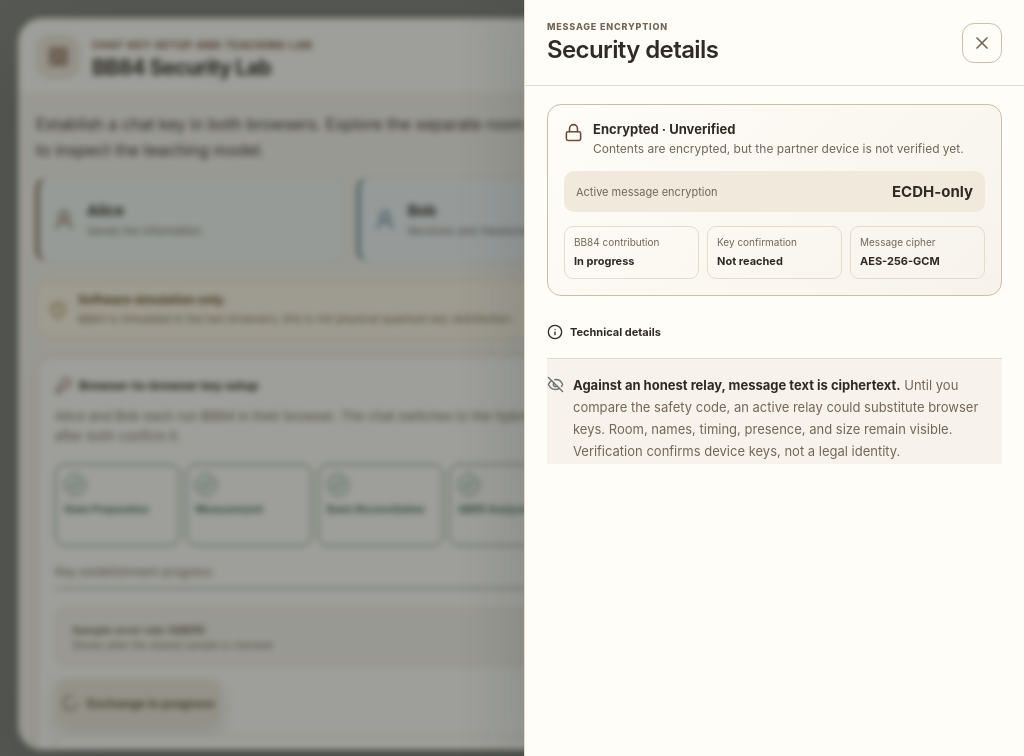
Test: shared runtime key status in Security Details and BB84 Security Lab › shows in-progress reconciliation without treating it as hybrid activation
Later steps or results of the test are not shown.
What coordinates should you click on to do the following:
click the heading "Technical details"
I would click on:
 (604, 332)
Its box is [547,324,661,340].
(page scrolled)
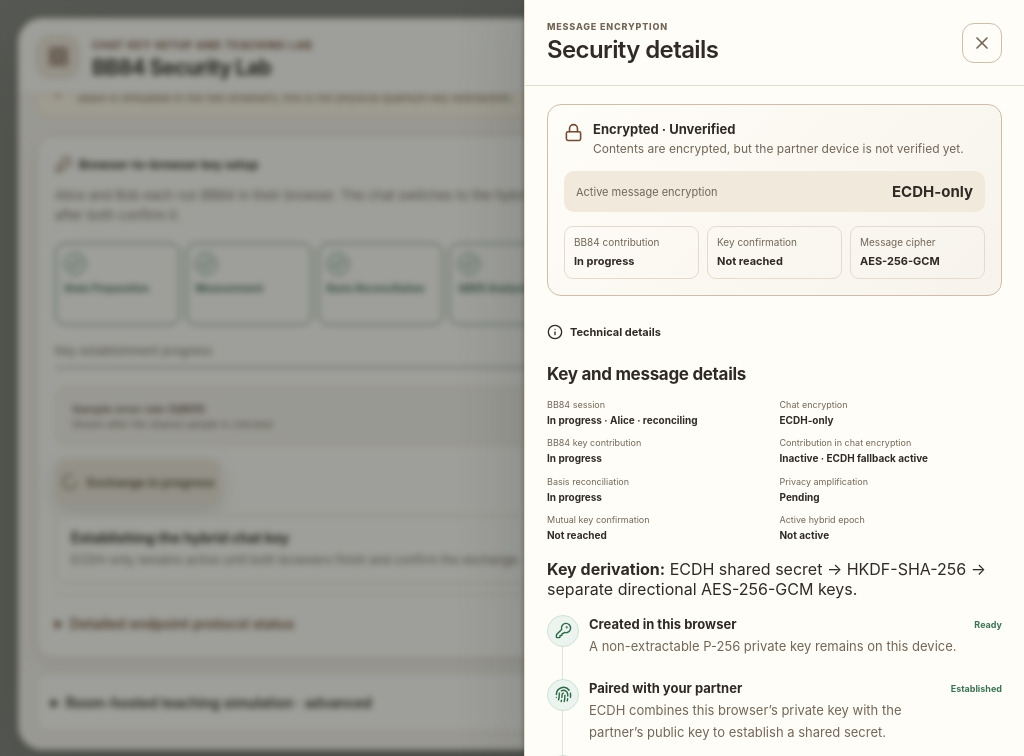
Expected: the text "ECDH-only chat active" is shown, [839,153,969,177]
Now the text "Establishing the hybrid chat key" is shown, box [71,529,289,546]
